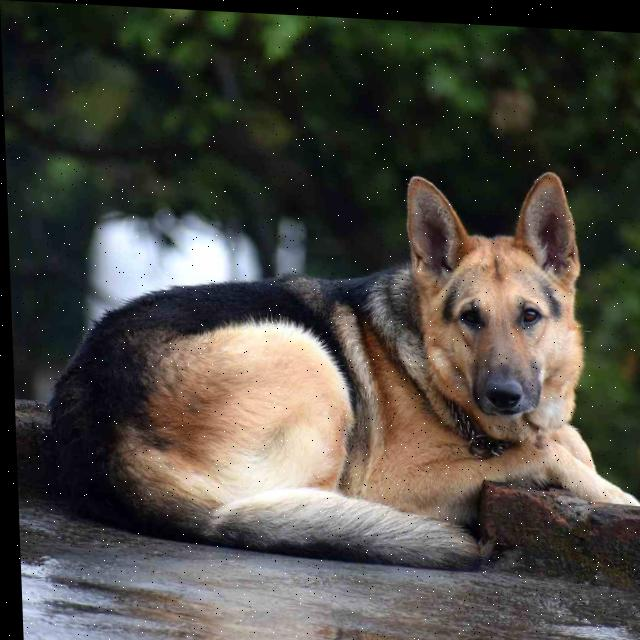GERMAN_SHEPHERD: (10, 145, 640, 596)
